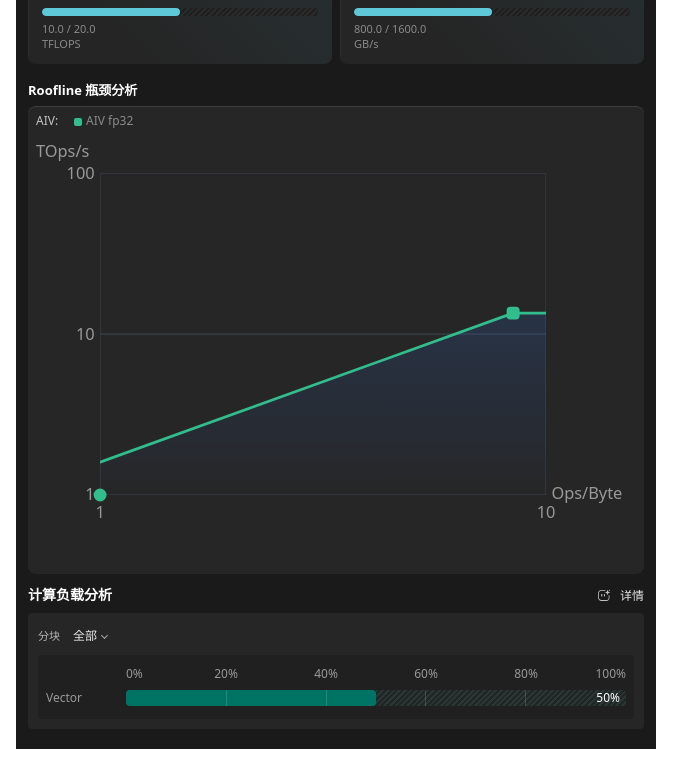
Test case: StatsAside › PR-STATS-014d (DATA-29): a picked block with no data blanks the tile — never the All aggregate
The width and height of the screenshot is (673, 768).
(page scrolled)
Click the button "全部". click: click(91, 636)
box: top-left (66, 625), bottom-right (116, 647)
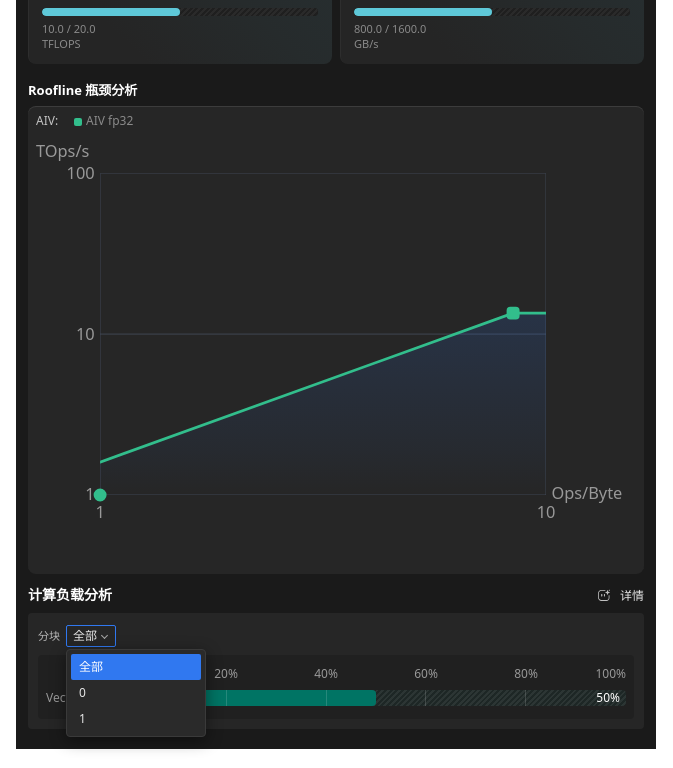
Click the option "1". click: click(82, 719)
box: top-left (79, 710), bottom-right (86, 727)
(page scrolled)
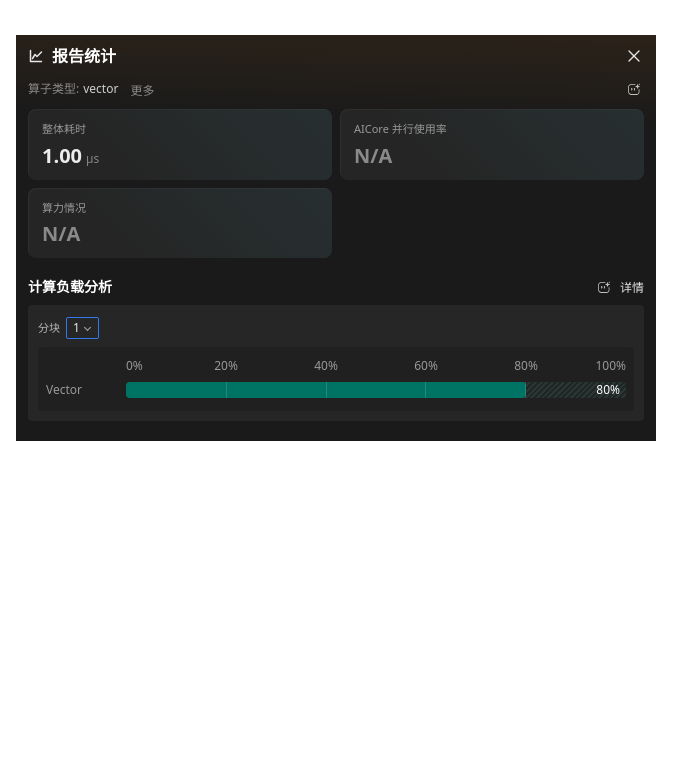
expect the element with test id "stats-compute-card" shows "N/A": met, box top-left (42, 220), bottom-right (80, 247)
expect the 2nd text "80%" is shown: met, box top-left (596, 381), bottom-right (620, 399)
expect the text "50%" is gone: met
Click the button "1". click: click(82, 328)
box: top-left (66, 317), bottom-right (99, 339)
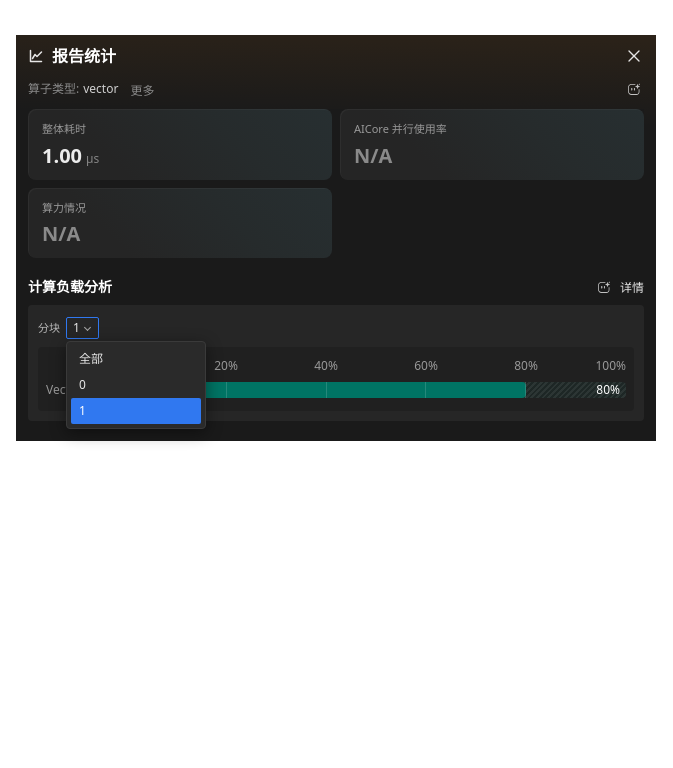
Click the option "全部". click: click(91, 358)
box: top-left (79, 350), bottom-right (103, 367)
(page scrolled)
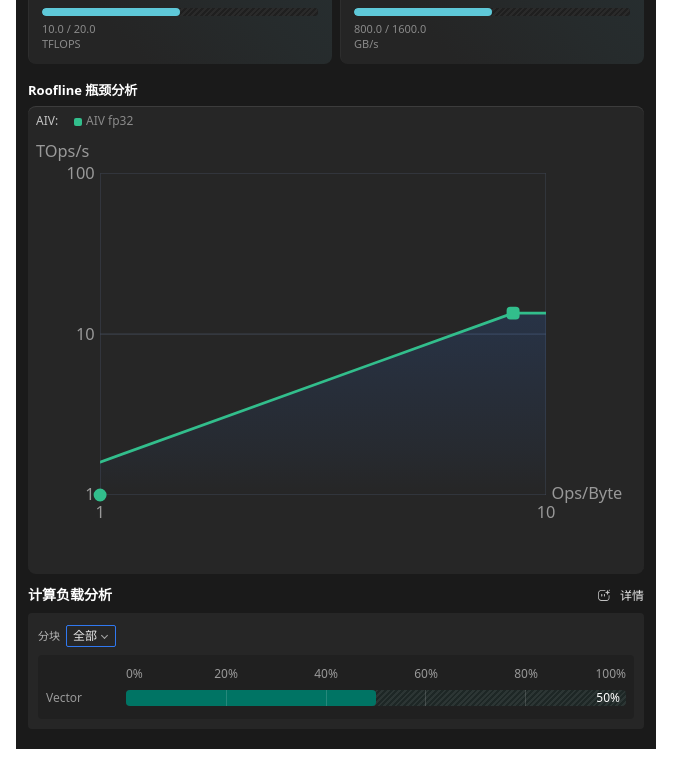
expect the text "50%" is shown: met, box top-left (596, 689), bottom-right (620, 707)
